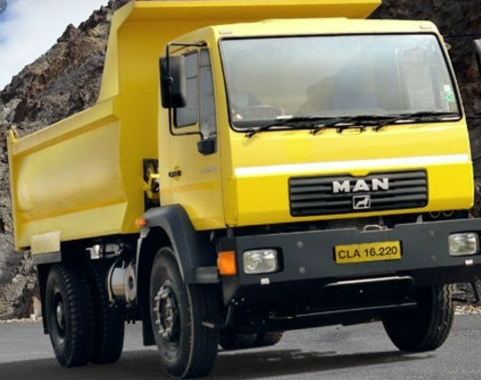truck: (1, 1, 481, 380)
